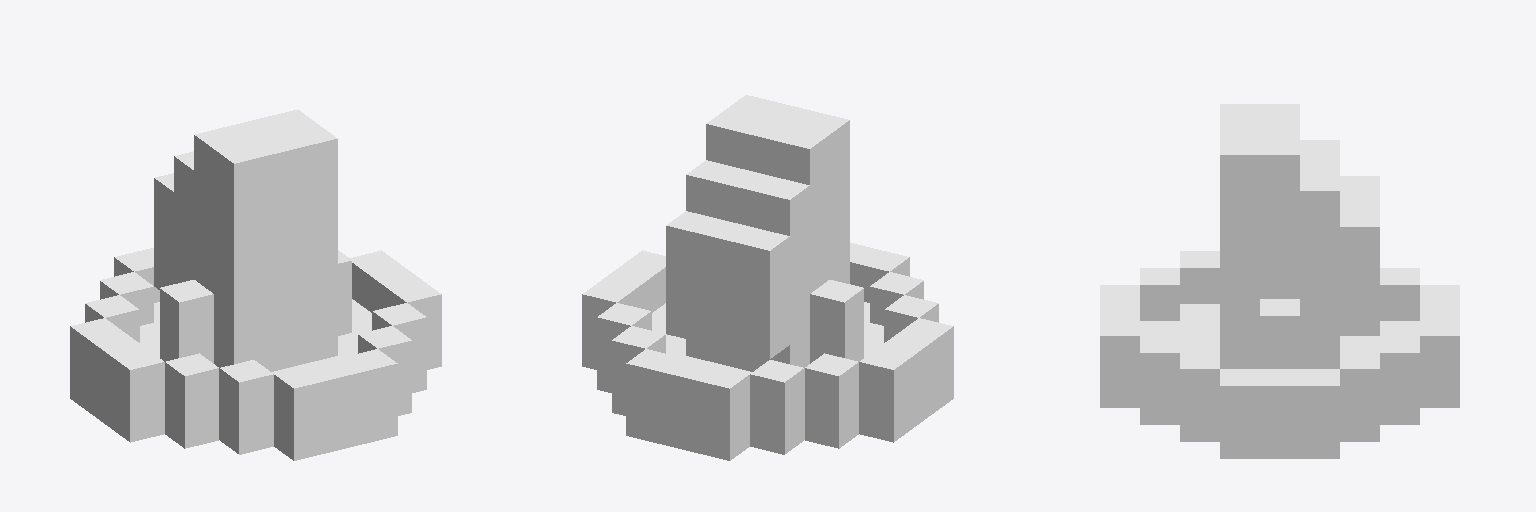
Rendered from frog_001.obj.
3 renders of one model, left to right at view 1: azimuth 30°, elevation 25°; view 2: azimuth 150°, elevation 25°; view 3: azimuth 270°, elevation 25°, orthographic.
Visible parts, largest first — view 1: object 1; view 2: object 1; view 3: object 1.
Boxes of the visible parts, <box> form: object 1: <box>70,109,441,460</box>; object 1: <box>582,95,953,460</box>; object 1: <box>1100,104,1459,458</box>.
Size of the model in its own units: 0.9 by 0.7 by 0.9.